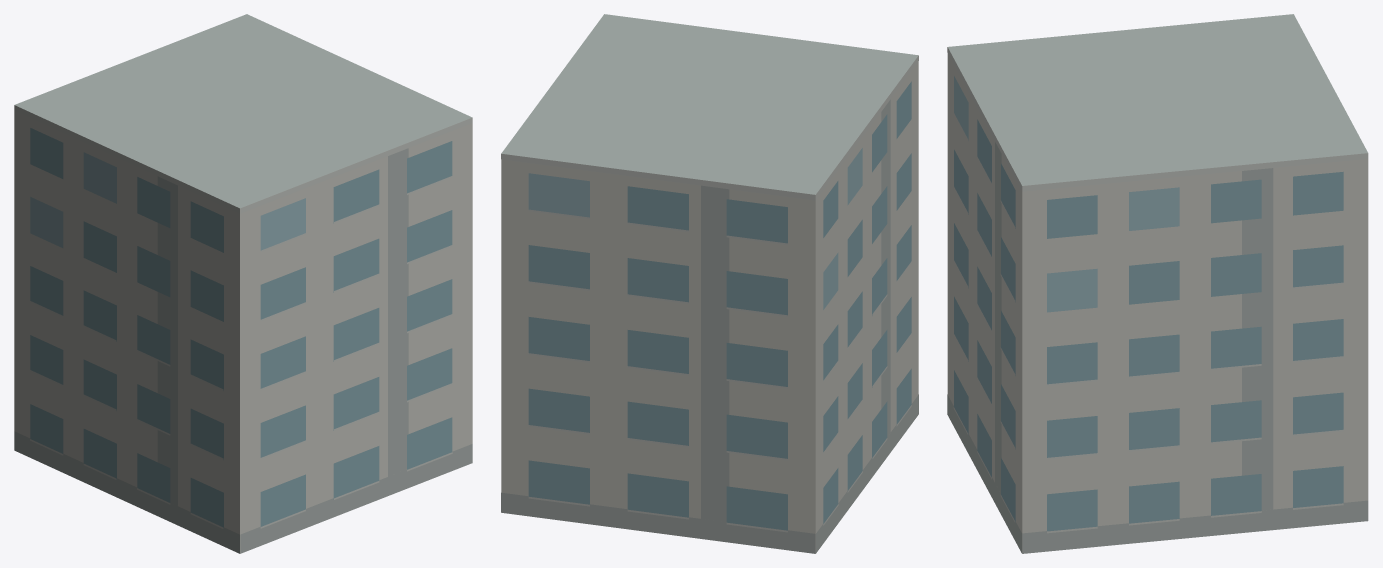
File: survey-upis-32774250.glb
The picture shows the model from 3 angles, left to right: view 1: azimuth 30°, elevation 25°; view 2: azimuth 150°, elevation 25°; view 3: azimuth 270°, elevation 25°; orthographic projection. The views are drawn at different scales.
Parts seen in each view (by area): view 1: survey-upis-32774250.tmp; view 2: survey-upis-32774250.tmp; view 3: survey-upis-32774250.tmp.
Part boxes in pixels (x1,y1,x2,y2): survey-upis-32774250.tmp: (14,14,472,553); survey-upis-32774250.tmp: (501,14,918,553); survey-upis-32774250.tmp: (947,14,1368,553).
Bounding box in the file's own units: 15.3 × 15.25 × 15.82.
